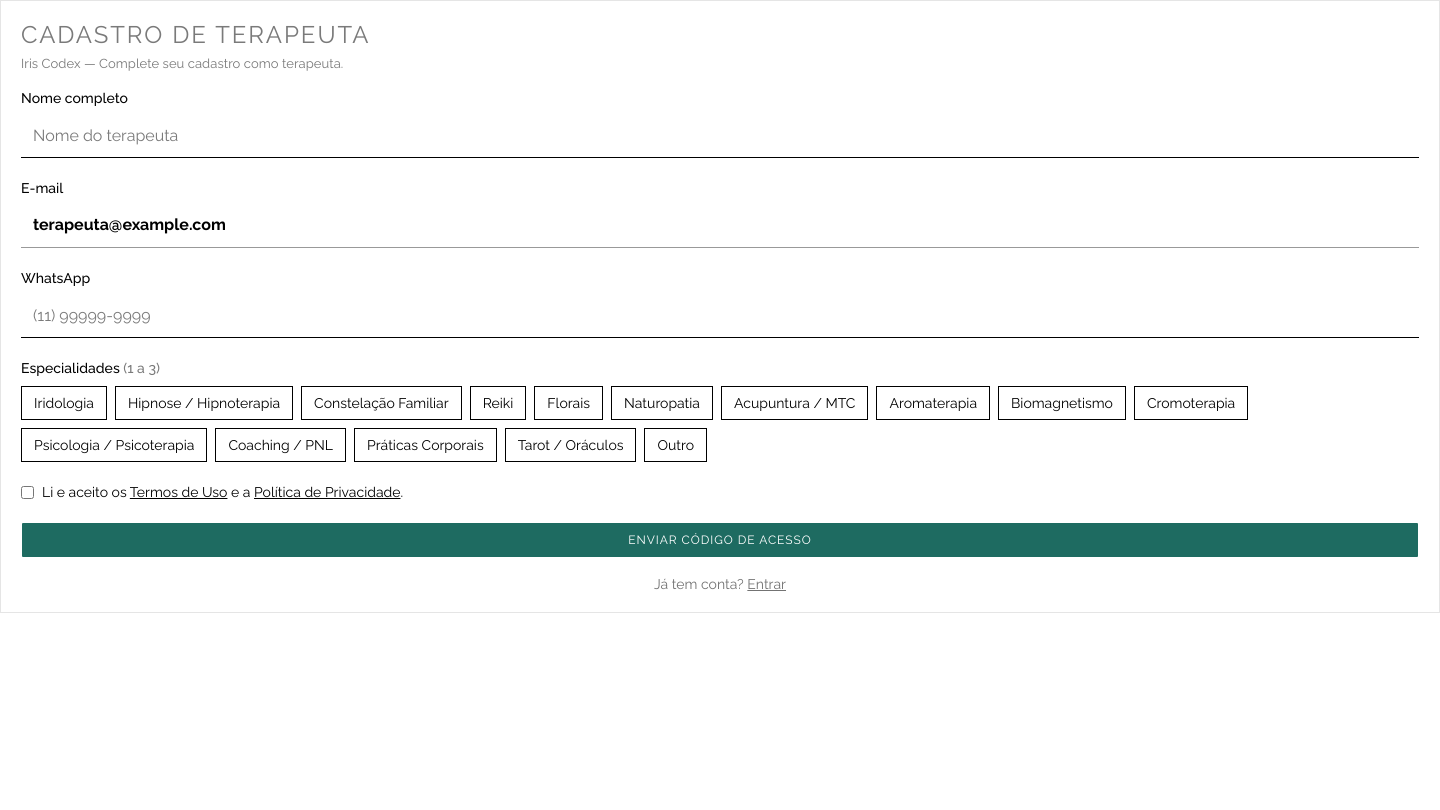
Test: TherapistInviteSignupForm › Test 4: submit sem WhatsApp válido → erro WhatsApp
This screenshot has width=1440, height=810.
Note: Preenche nome mas deixa phone vazio
In the field labelled "Nome completo": coordinates (720, 136) left=21, top=114, right=1419, bottom=158, type "João Terapeuta"
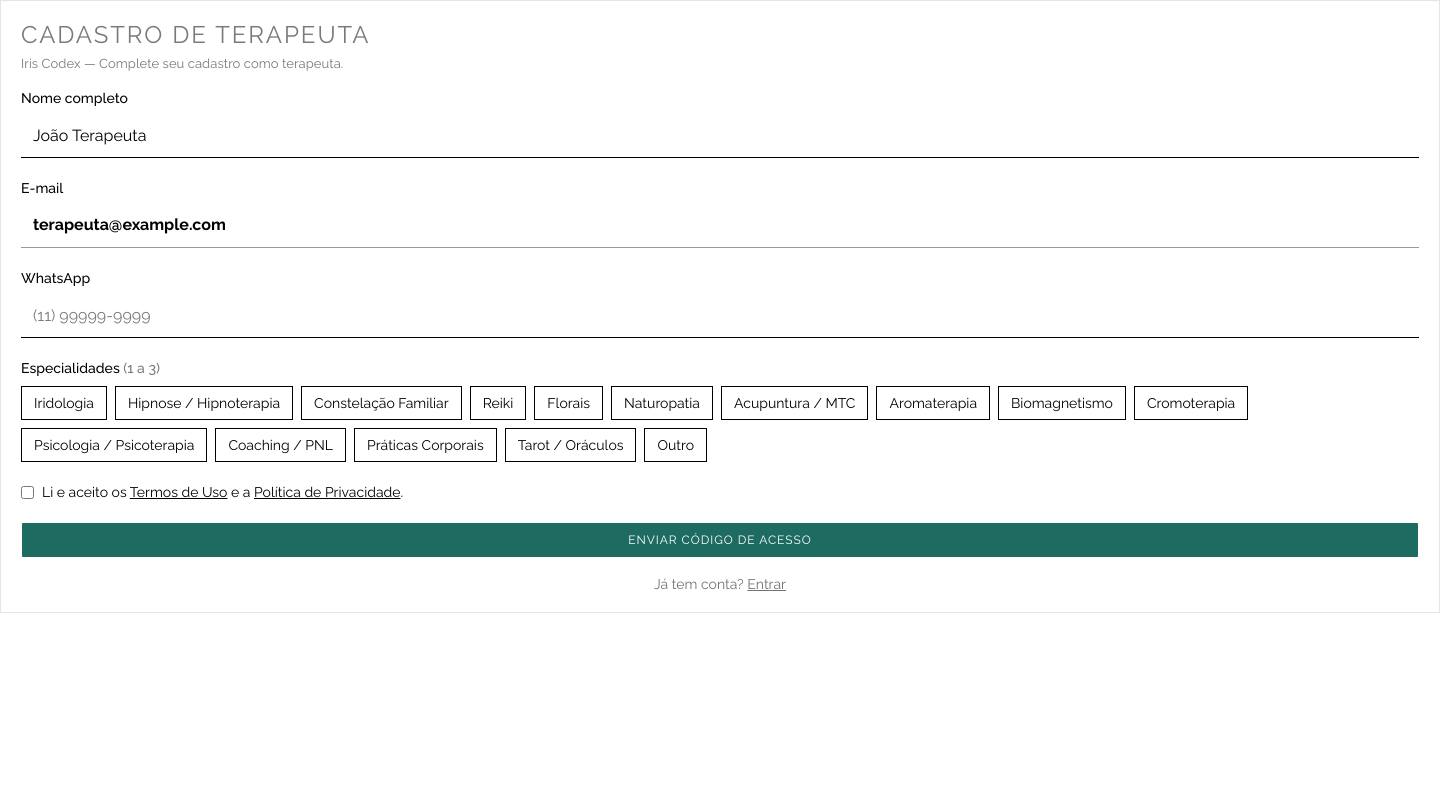
Submit the form named "enviar código", box left=21, top=88, right=1419, bottom=558
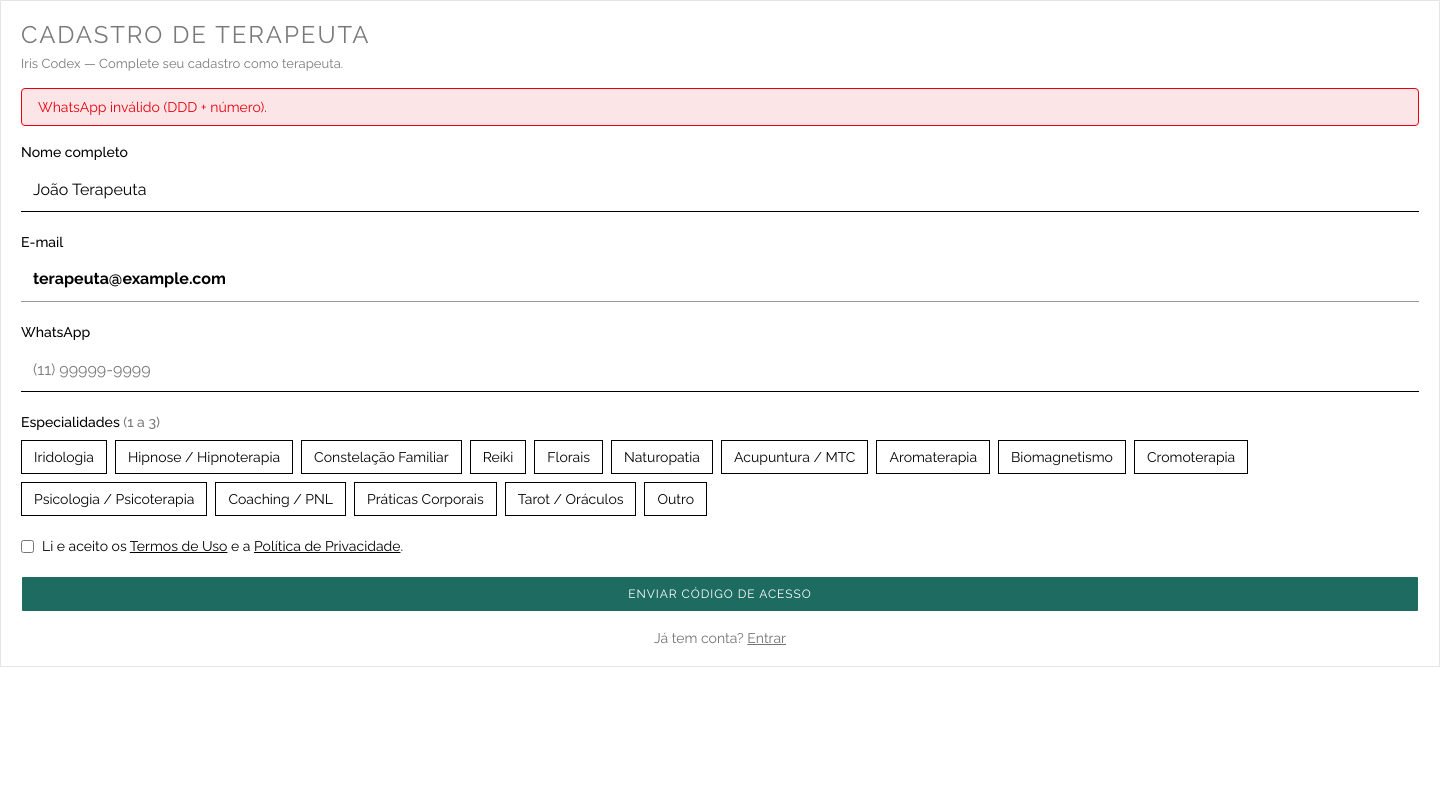
Result: the text "WhatsApp inválido (DDD + número)." is shown at left=21, top=88, right=1419, bottom=126
